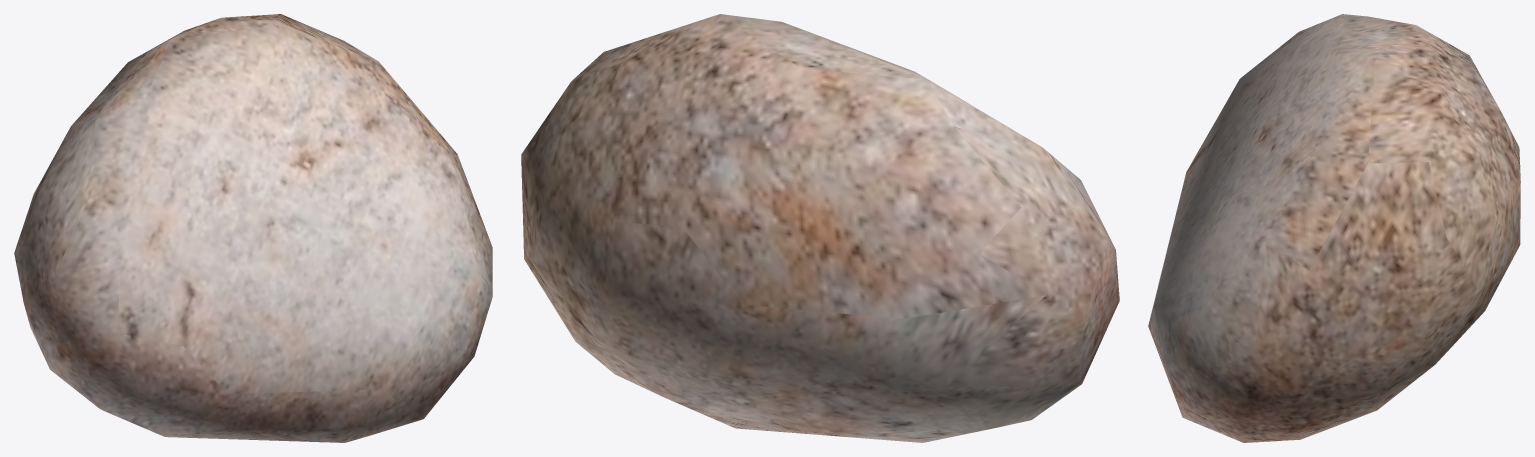
The picture shows the model from 3 angles, left to right: view 1: azimuth 30°, elevation 25°; view 2: azimuth 150°, elevation 25°; view 3: azimuth 270°, elevation 25°; orthographic projection. The views are drawn at different scales.
Visible parts, largest first — view 1: rock083_lod4; view 2: rock083_lod4; view 3: rock083_lod4.
Part boxes in pixels (box(x1,y1,x2,y2)): rock083_lod4: box(14, 14, 492, 442); rock083_lod4: box(521, 14, 1119, 442); rock083_lod4: box(1148, 14, 1520, 442).
Bounding box in the file's own units: 1 × 0.8094 × 0.7539.
1 material, 1 textured.
